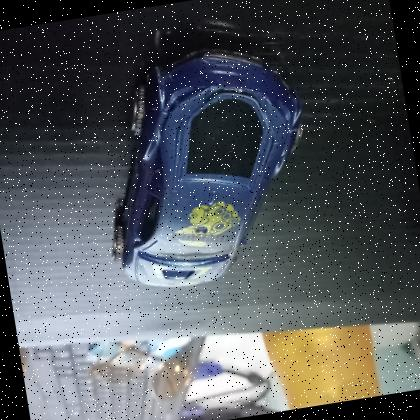Car: (79, 28, 333, 302)
